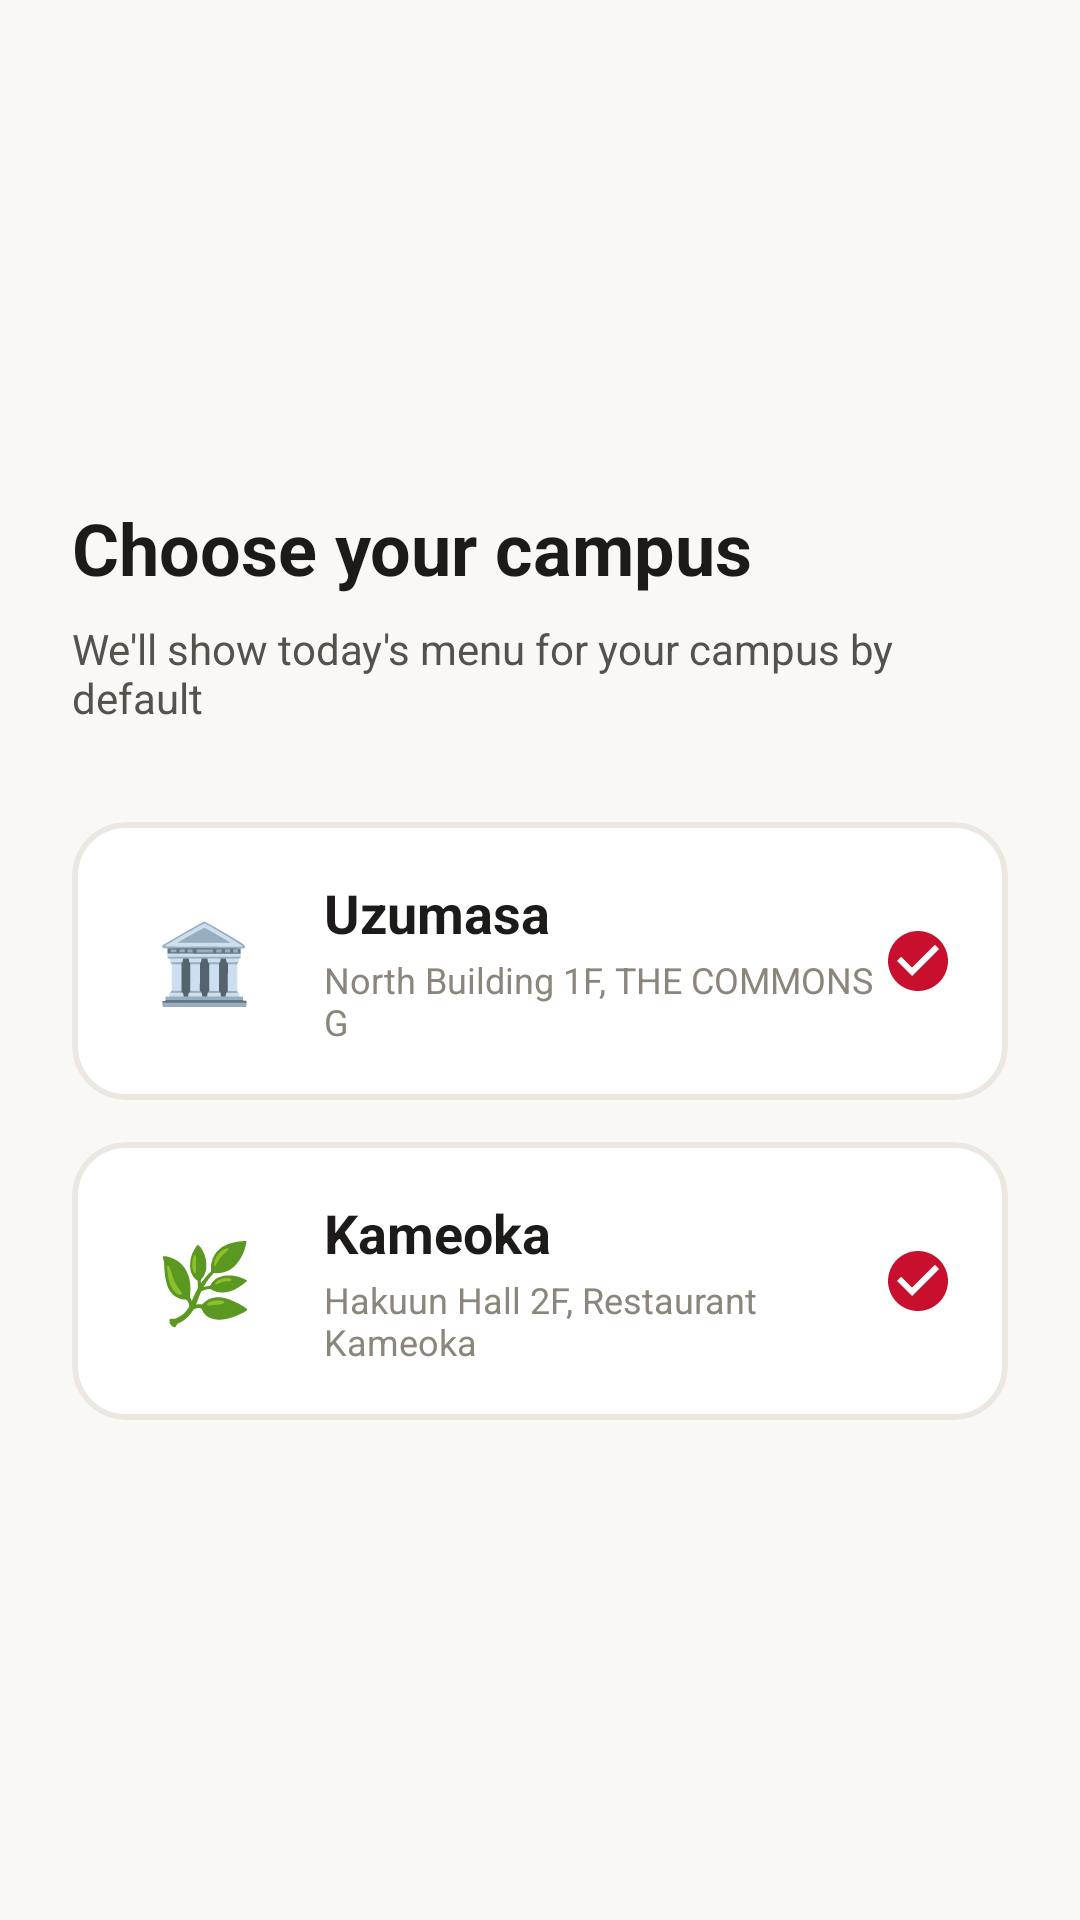

Point at icon controls on the screen. Image size 1080px×1920px, points as (x=x, y=y).
check circle: (x=918, y=961), (x=918, y=1281)
